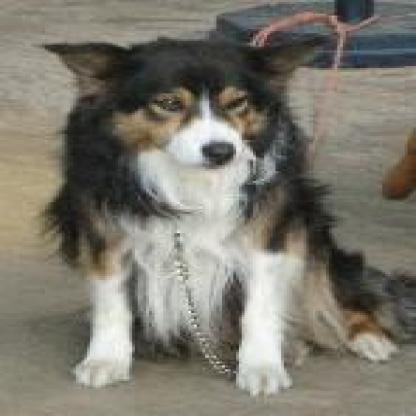collie: (17, 29, 396, 393)
